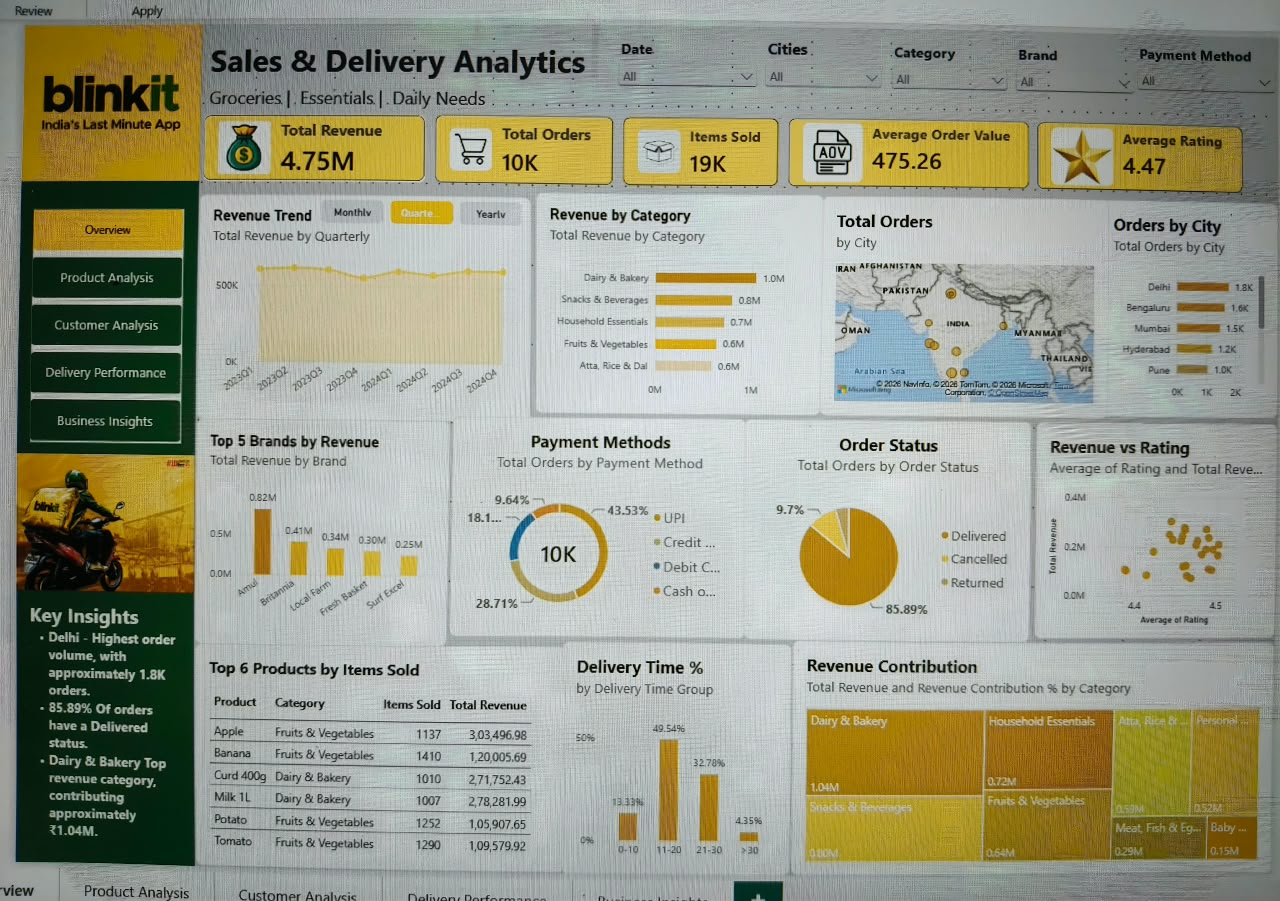

This screenshot's page, from the dashboard's own definition file:
{"tool":"powerbi","page":{"name":"Overview","canvas":[1536,1024],"ordinal":0},"visuals":[{"type":"image","box":[0,0,221.7,192.1],"z":0},{"type":"shape","box":[0,192.1,221.7,888.3],"z":1000},{"type":"image","box":[0,452.2,221.7,311.9],"z":2000},{"type":"pageNavigator","box":[16.3,226.1,187.7,283.8],"z":3000},{"type":"textbox","box":[232.1,0,471.5,75.4],"z":4000},{"type":"textbox","box":[372,192,804,138],"z":5000},{"type":"textbox","box":[372,330,804,74],"z":6000},{"type":"textbox","box":[232.1,75.4,818.8,35.5],"z":7000},{"type":"slicer","fields":{"Values":["Calendar1.Date"]},"box":[722.8,16.3,177.4,69.4],"z":8000},{"type":"slicer","fields":{"Values":["Cities.City"]},"box":[900.1,13.3,151.6,69.4],"z":9000},{"type":"slicer","fields":{"Values":["Orders.Category"]},"box":[1052.4,16.3,151.6,69.4],"z":10000},{"type":"slicer","fields":{"Values":["Orders.Brand"]},"box":[1204.6,16.3,156.5,72.6],"z":11000},{"type":"slicer","fields":{"Values":["Orders.Payment Method"]},"box":[1353.9,11.8,182.3,64.5],"z":12000},{"type":"cardVisual","fields":{"Data":["Calendar1.Total Revenue"]},"box":[226.1,110.9,270.5,81.3],"z":13000},{"type":"cardVisual","fields":{"Data":["Calendar1.Total Orders"]},"box":[508.5,110.9,214.3,81.3],"z":14000},{"type":"cardVisual","fields":{"Data":["Calendar1.Items Sold"]},"box":[734.6,110.9,187.7,81.3],"z":15000},{"type":"cardVisual","fields":{"Data":["Calendar1.Average Order Value"]},"box":[934.1,110.9,291.2,81.3],"z":16000},{"type":"cardVisual","fields":{"Data":["Calendar1.Average Rating"]},"box":[1235.7,110.9,255.7,81.3],"z":17000},{"type":"cardVisual","fields":{"Data":["Calendar1.Average Delivery Time"]},"box":[1602,112,302,114],"z":18000},{"type":"areaChart","title":"Revenue Trend","fields":{"Category":["Calendar1.Year Quarter"],"Y":["Calendar1.Total Revenue"]},"box":[232.1,202.5,397.6,264.6],"z":19000},{"type":"advancedSlicerVisual","fields":{"Values":["Revenue Time Filter.Revenue Time Filter"]},"box":[372.5,214.3,243.9,28.1],"z":20000},{"type":"clusteredBarChart","title":"Revenue by Category","fields":{"Category":["Orders.Category"],"Y":["Calendar1.Total Revenue"]},"box":[629.7,202.5,347.3,266.1],"z":21000},{"type":"clusteredColumnChart","title":"Top 5 Brands by Revenue","fields":{"Category":["Orders.Brand"],"Y":["Calendar1.Total Revenue"]},"box":[224,592,304.5,265.7],"z":22000},{"type":"donutChart","title":"Payment Methods","fields":{"Category":["Orders.Payment Method"],"Y":["Calendar1.Total Orders"]},"box":[530.6,474.5,356.7,265.7],"z":23000},{"type":"pieChart","title":"Order Status","fields":{"Category":["Orders.Order Status"],"Y":["Calendar1.Total Orders"]},"box":[886.8,474.5,342.9,266.1],"z":24000},{"type":"clusteredColumnChart","title":"Delivery Time Analysis","fields":{"Category":["Orders.Delivery Time Group"],"Y":["Orders.Delivery Time %"]},"box":[1550.9,558.5,352.8,324.5],"z":25000},{"type":"scatterChart","title":" Revenue vs Rating","fields":{"Y":["Calendar1.Total Revenue"],"X":["Orders.Rating"],"Category":["Products.Product ID"]},"box":[1235.7,474.5,300,261.6],"z":26000},{"type":"clusteredBarChart","title":"Orders by City","fields":{"Category":["Cities.City"],"Y":["Calendar1.Total Orders"]},"box":[1312.5,204,223.2,263.1],"z":27000},{"type":"map","fields":{"Category":["Orders.City"],"Size":["Calendar1.Total Orders"]},"box":[977,204,347.3,264.6],"z":28000},{"type":"clusteredColumnChart","fields":{"Category":["Orders.Delivery Time Group"],"Y":["Orders.Delivery Time %"]},"box":[668.1,744.9,276.4,279.4],"z":29000},{"type":"tableEx","title":"Top 6 Products by Items Sold","fields":{"Values":["Orders.Product","Orders.Category","Calendar1.Items Sold","Calendar1.Total Revenue"]},"box":[226.9,744.8,441.8,268.7],"z":30000},{"type":"treemap","title":"Revenue Contribution","fields":{"Group":["Orders.Category"],"Values":["Calendar1.Total Revenue"]},"box":[944.8,740.3,591,283.6],"z":31000},{"type":"textbox","box":[16,704,192,304],"z":33000}]}

Visuals, with their boxes on the page's 1536x1024 design canvas (x1, y1, x2, y2). These are canvas units, not pixel positions in the 1280x901 screenshot, which may show the page scaled, cropped or inside an application window:
image: (left=0, top=0, right=222, bottom=192)
shape: (left=0, top=192, right=222, bottom=1080)
image: (left=0, top=452, right=222, bottom=764)
pageNavigator: (left=16, top=226, right=204, bottom=510)
textbox: (left=232, top=0, right=704, bottom=75)
textbox: (left=372, top=192, right=1176, bottom=330)
textbox: (left=372, top=330, right=1176, bottom=404)
textbox: (left=232, top=75, right=1051, bottom=111)
slicer - Calendar1.Date: (left=723, top=16, right=900, bottom=86)
slicer - Cities.City: (left=900, top=13, right=1052, bottom=83)
slicer - Orders.Category: (left=1052, top=16, right=1204, bottom=86)
slicer - Orders.Brand: (left=1205, top=16, right=1361, bottom=89)
slicer - Orders.Payment Method: (left=1354, top=12, right=1536, bottom=76)
cardVisual - Calendar1.Total Revenue: (left=226, top=111, right=497, bottom=192)
cardVisual - Calendar1.Total Orders: (left=508, top=111, right=723, bottom=192)
cardVisual - Calendar1.Items Sold: (left=735, top=111, right=922, bottom=192)
cardVisual - Calendar1.Average Order Value: (left=934, top=111, right=1225, bottom=192)
cardVisual - Calendar1.Average Rating: (left=1236, top=111, right=1491, bottom=192)
cardVisual - Calendar1.Average Delivery Time: (left=1602, top=112, right=1904, bottom=226)
"Revenue Trend" areaChart: (left=232, top=202, right=630, bottom=467)
advancedSlicerVisual - Revenue Time Filter.Revenue Time Filter: (left=372, top=214, right=616, bottom=242)
"Revenue by Category" clusteredBarChart: (left=630, top=202, right=977, bottom=469)
"Top 5 Brands by Revenue" clusteredColumnChart: (left=224, top=592, right=528, bottom=858)
"Payment Methods" donutChart: (left=531, top=474, right=887, bottom=740)
"Order Status" pieChart: (left=887, top=474, right=1230, bottom=741)
"Delivery Time Analysis" clusteredColumnChart: (left=1551, top=558, right=1904, bottom=883)
" Revenue vs Rating" scatterChart: (left=1236, top=474, right=1536, bottom=736)
"Orders by City" clusteredBarChart: (left=1312, top=204, right=1536, bottom=467)
map - Orders.City x Calendar1.Total Orders: (left=977, top=204, right=1324, bottom=469)
clusteredColumnChart - Orders.Delivery Time Group x Orders.Delivery Time %: (left=668, top=745, right=944, bottom=1024)
"Top 6 Products by Items Sold" tableEx: (left=227, top=745, right=669, bottom=1014)
"Revenue Contribution" treemap: (left=945, top=740, right=1536, bottom=1024)
textbox: (left=16, top=704, right=208, bottom=1008)
